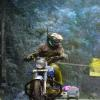motorcycles: (26, 55, 60, 100)
